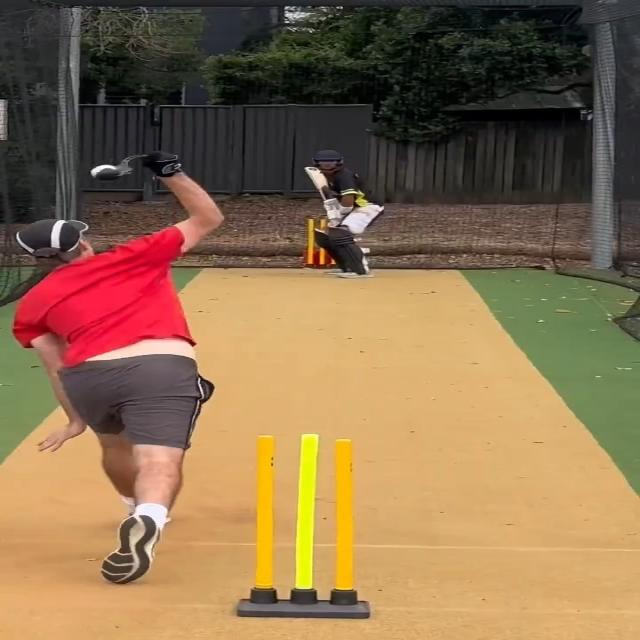stump: (239, 432, 371, 620)
